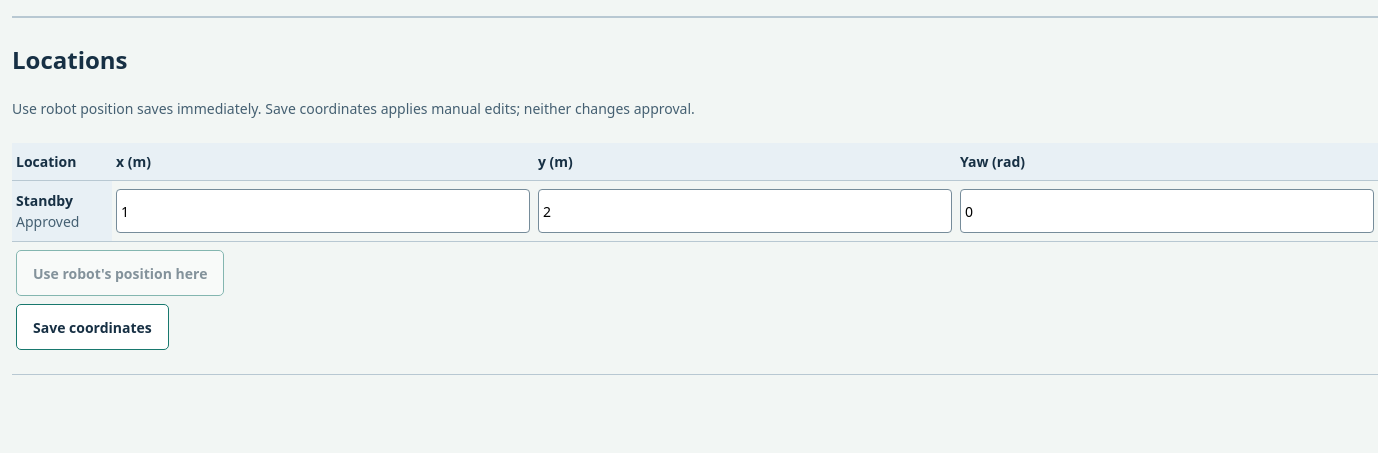
Test case: missing pose disables capture, blank coordinates do not send, and errors preserve edits
expect the button "Use robot's position here" is disabled: met, box top-left (16, 250), bottom-right (224, 296)
Clear the number field named "Standby: x (m)" at {"x": 323, "y": 211}, box top-left (116, 189), bottom-right (530, 233)
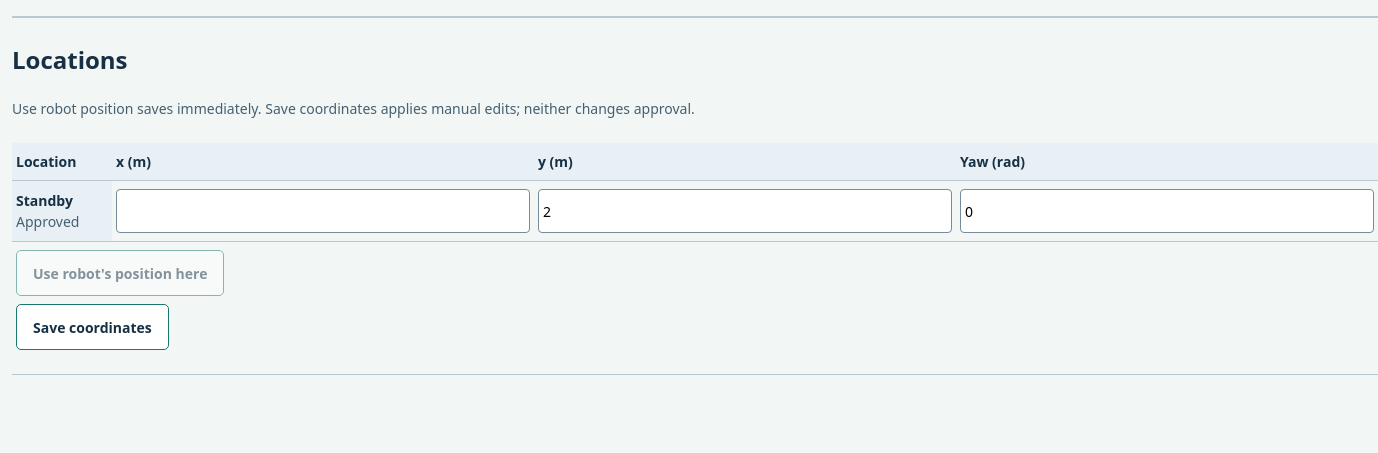
Click the button "Save coordinates" at {"x": 92, "y": 327}, box top-left (16, 304), bottom-right (169, 350)
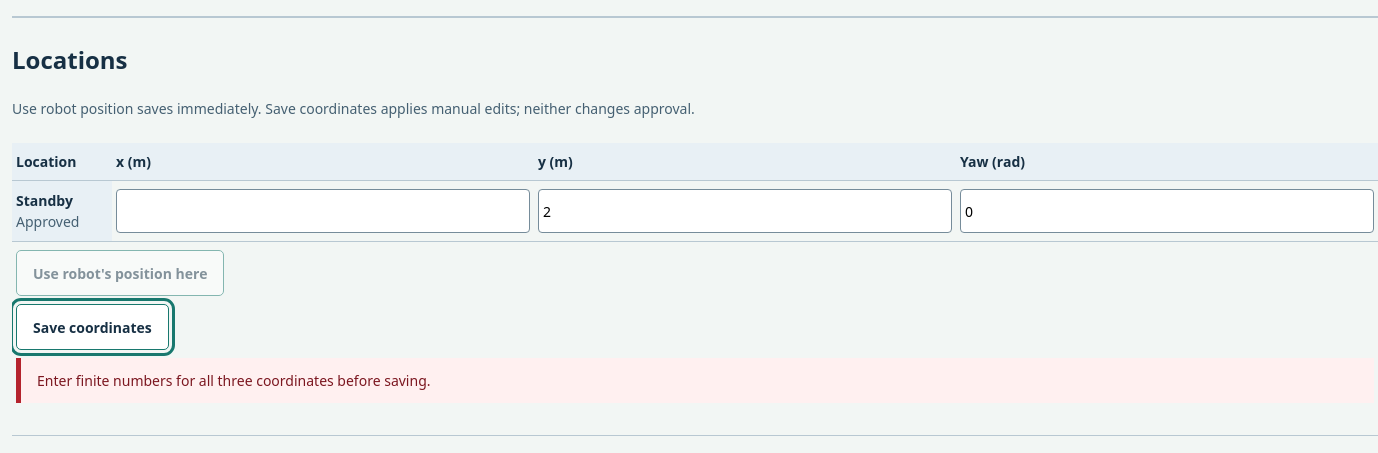
expect the message shows "Enter finite numbers": met, box top-left (37, 371), bottom-right (430, 390)
Type "9" into the number field named "Standby: x (m)" at {"x": 323, "y": 211}, box top-left (116, 189), bottom-right (530, 233)
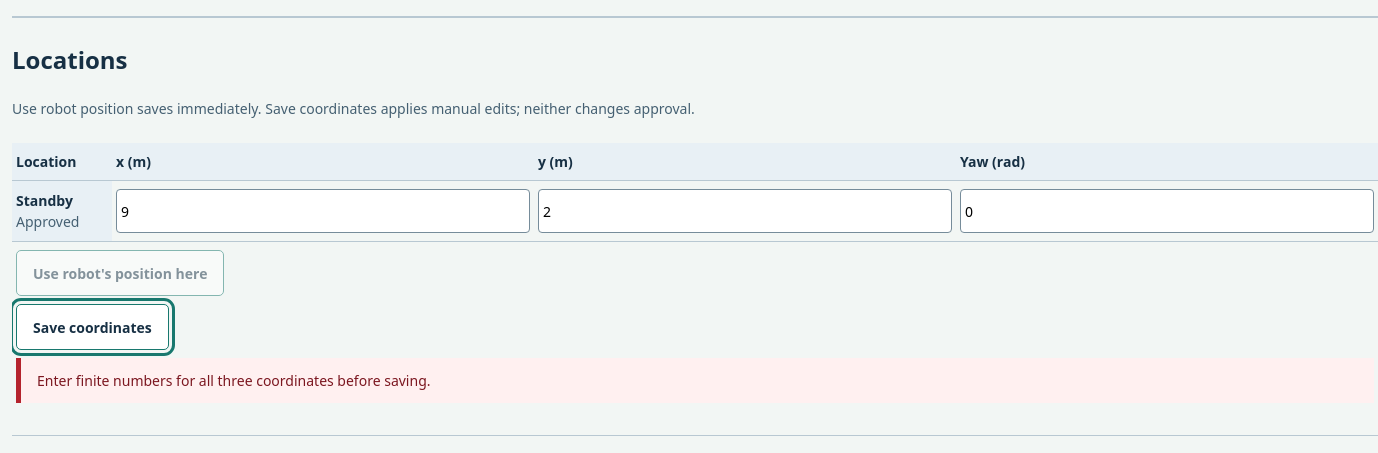
Click the button "Save coordinates" at {"x": 92, "y": 327}, box top-left (16, 304), bottom-right (169, 350)
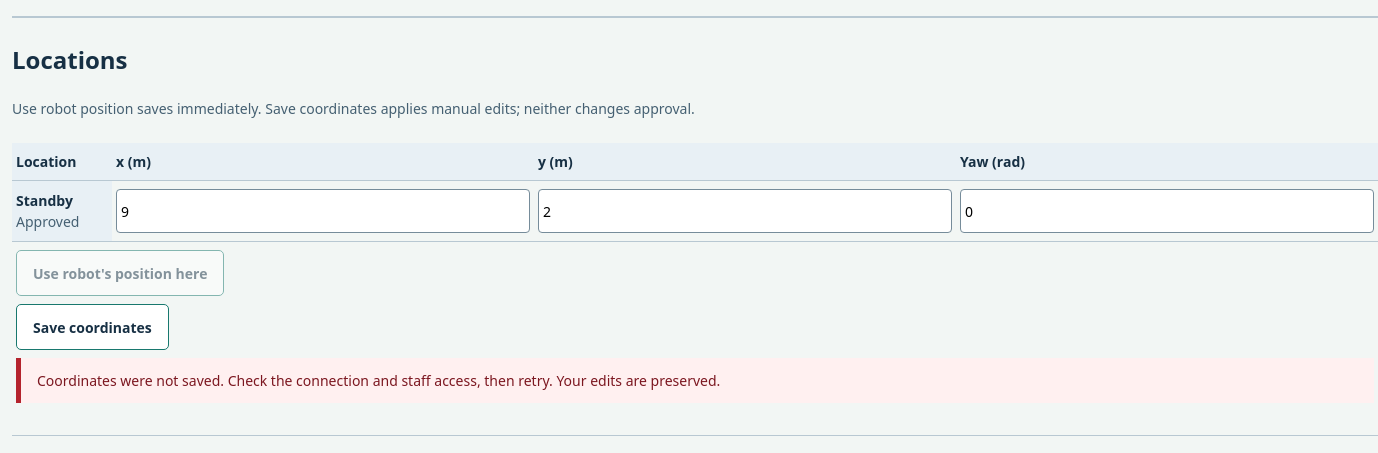
expect the message shows "not saved": met, box top-left (37, 371), bottom-right (720, 390)
